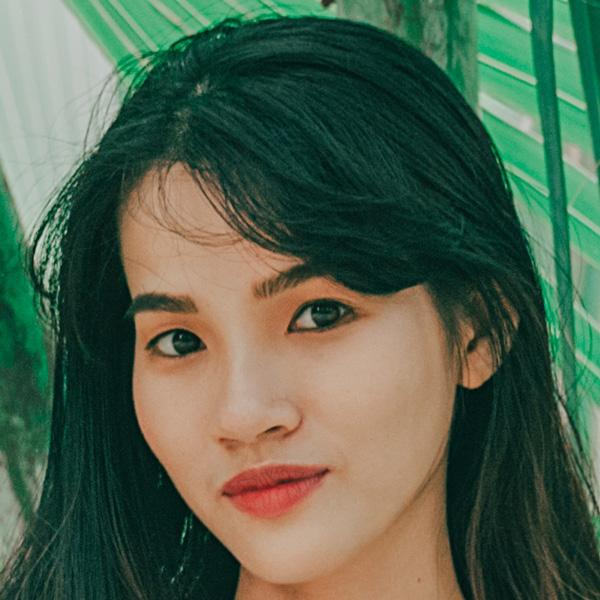Eyes: (272, 281, 368, 349), (131, 317, 216, 374)
